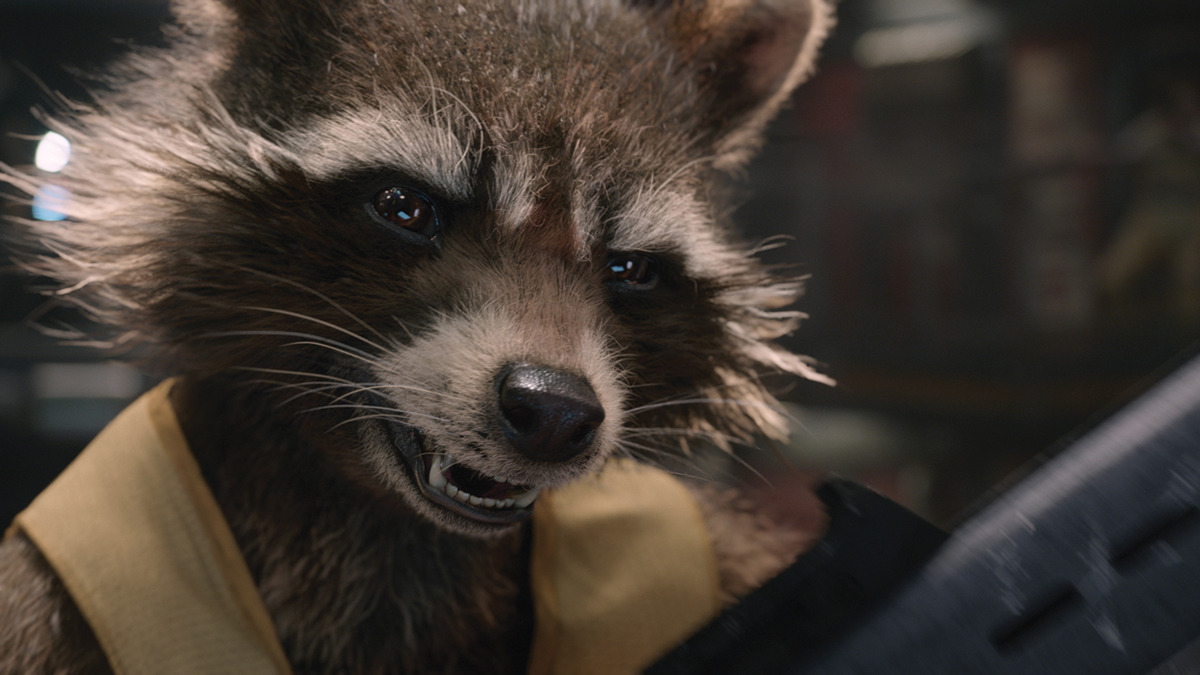raccoon: (43, 23, 877, 669)
